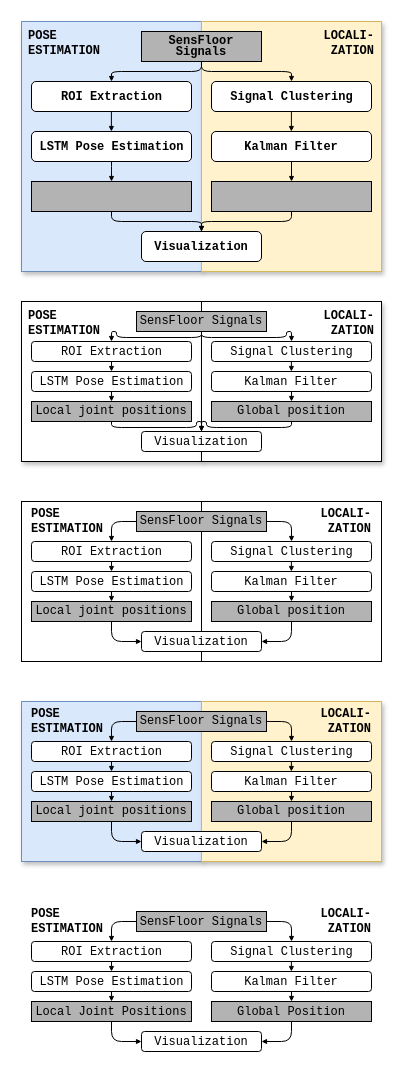
Image size: 405x1079. Some labels were removed from this diagram. Here are the shapes that lost their labels. From the top down, the centre of each, then its label:
the point at 111,196: Local joint coordinates
the point at 291,196: Global position on whole floor
